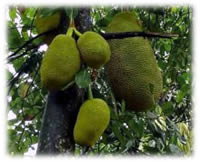jackfruit: (102, 11, 164, 115), (37, 31, 79, 87), (72, 97, 110, 149), (77, 31, 113, 66)
